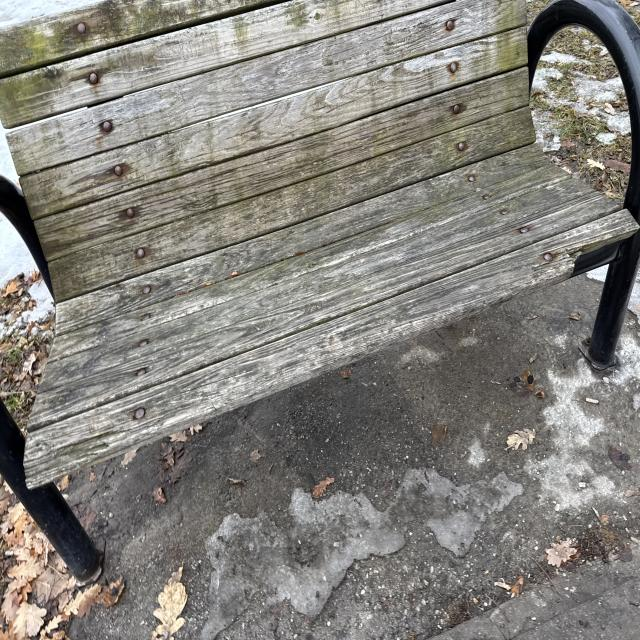Bench: (2, 1, 634, 423)
